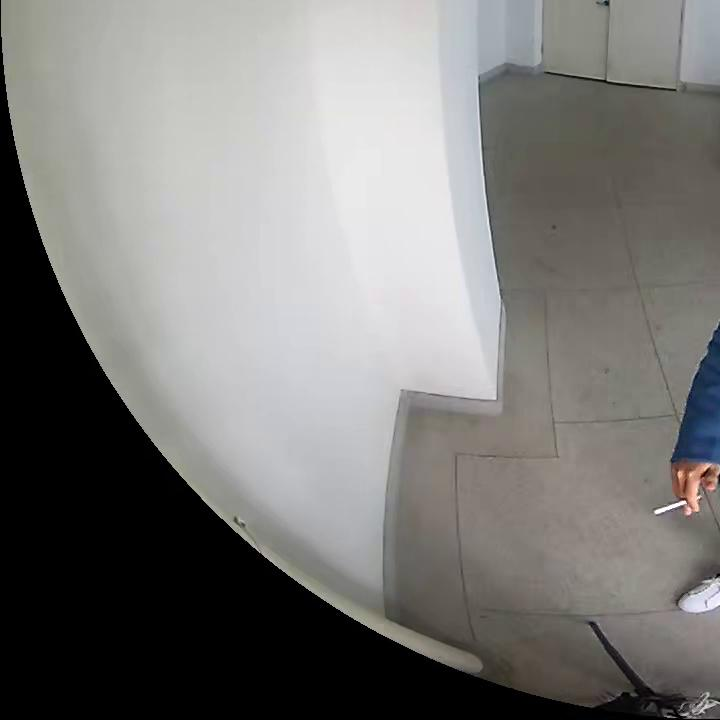handsmoke: (654, 463, 720, 522)
